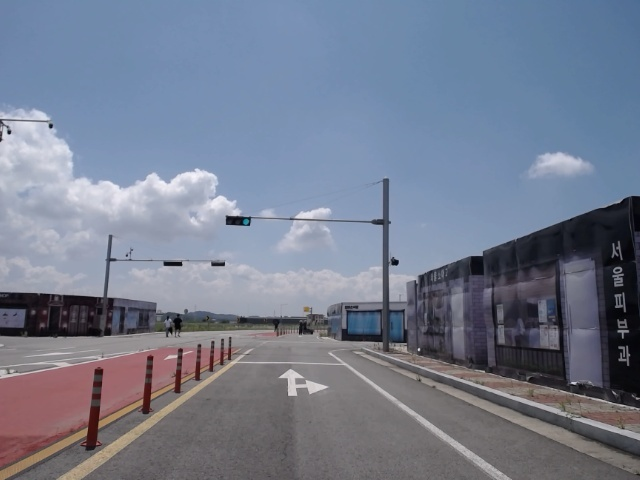green_3: (226, 216, 251, 225)
